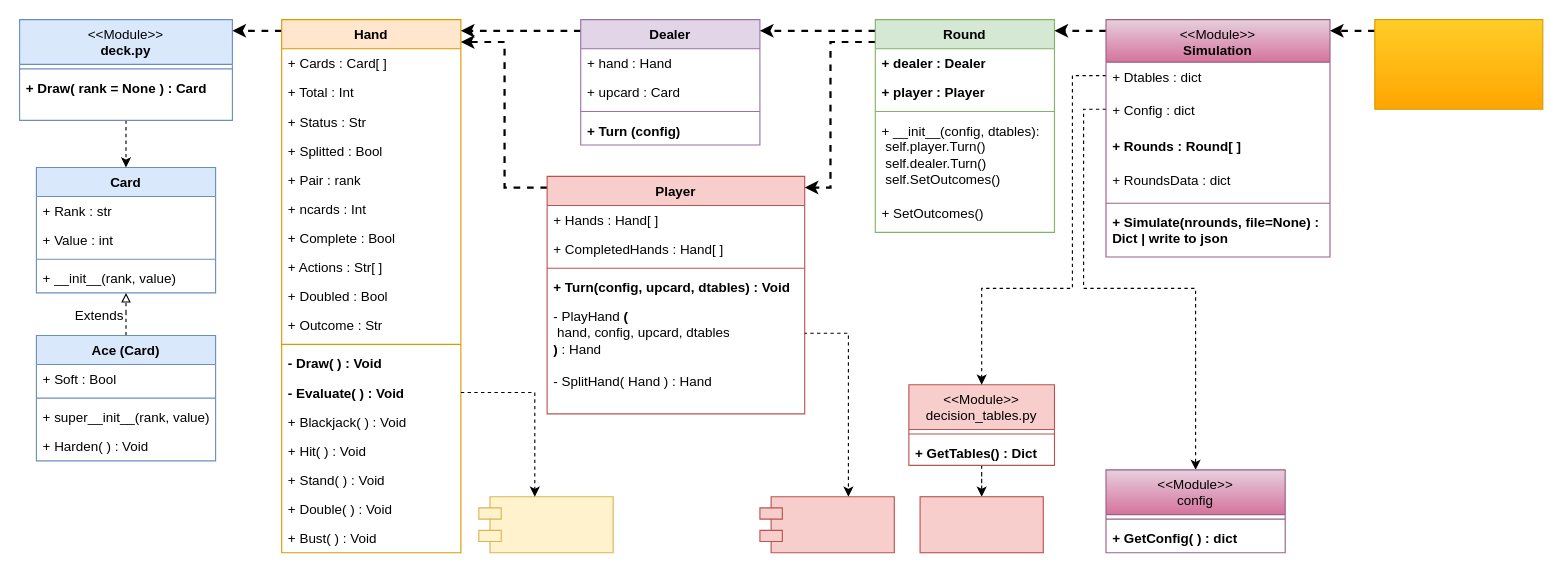
Some shapes in this 1562 by 576 pixel diagram are drawn without their labels. Each missing label, with the centre of its shape:
<<Algorithm>> Hand Evaluation evaluate.py: (x=545, y=524)
<<Algorithm>> Player Decision decide.py: (x=826, y=524)
Output.json: (x=1458, y=63)
table_data.json: (x=981, y=524)
